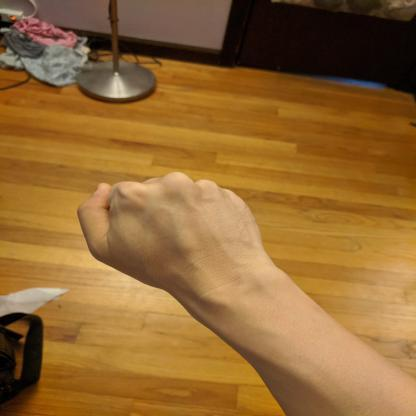A: (75, 168, 272, 298)
